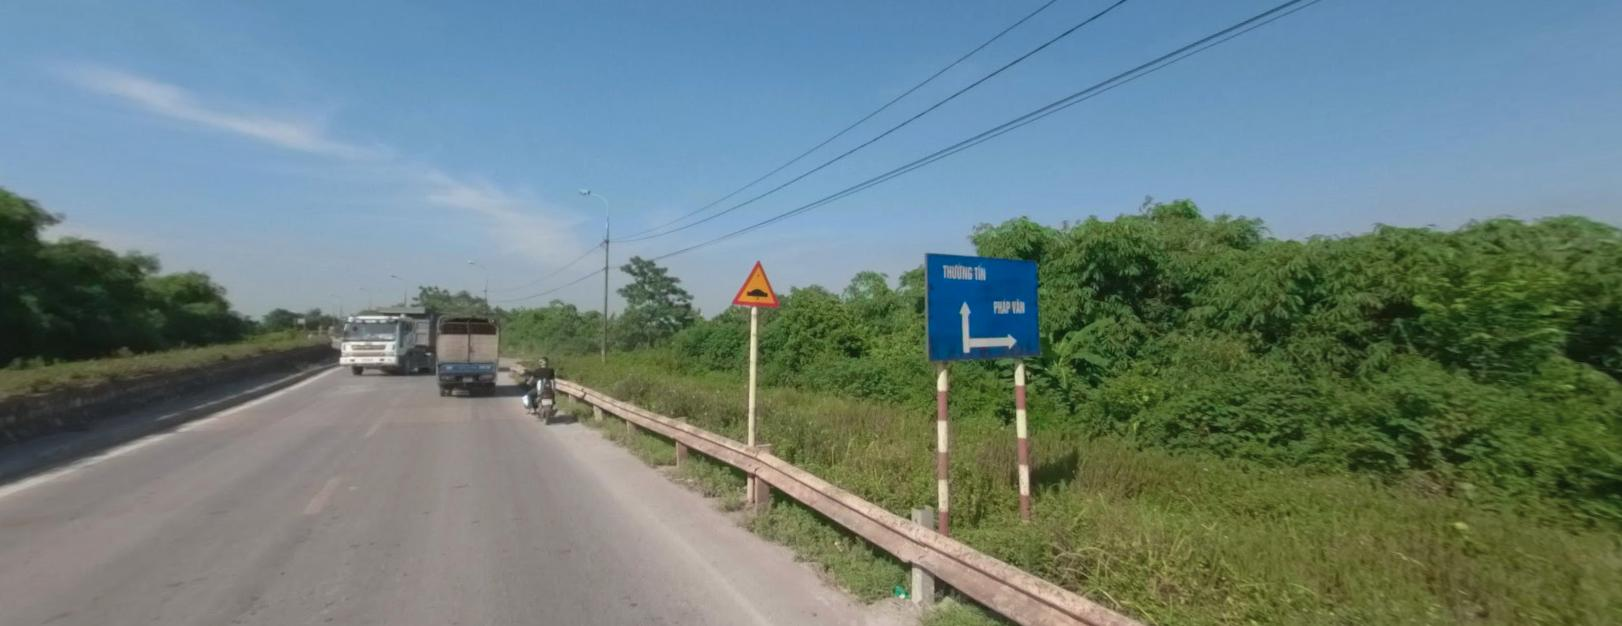Nguy hiem: (725, 255, 782, 314)
